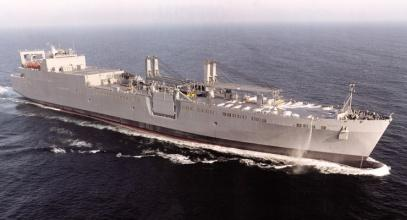warship: (7, 39, 390, 166)
